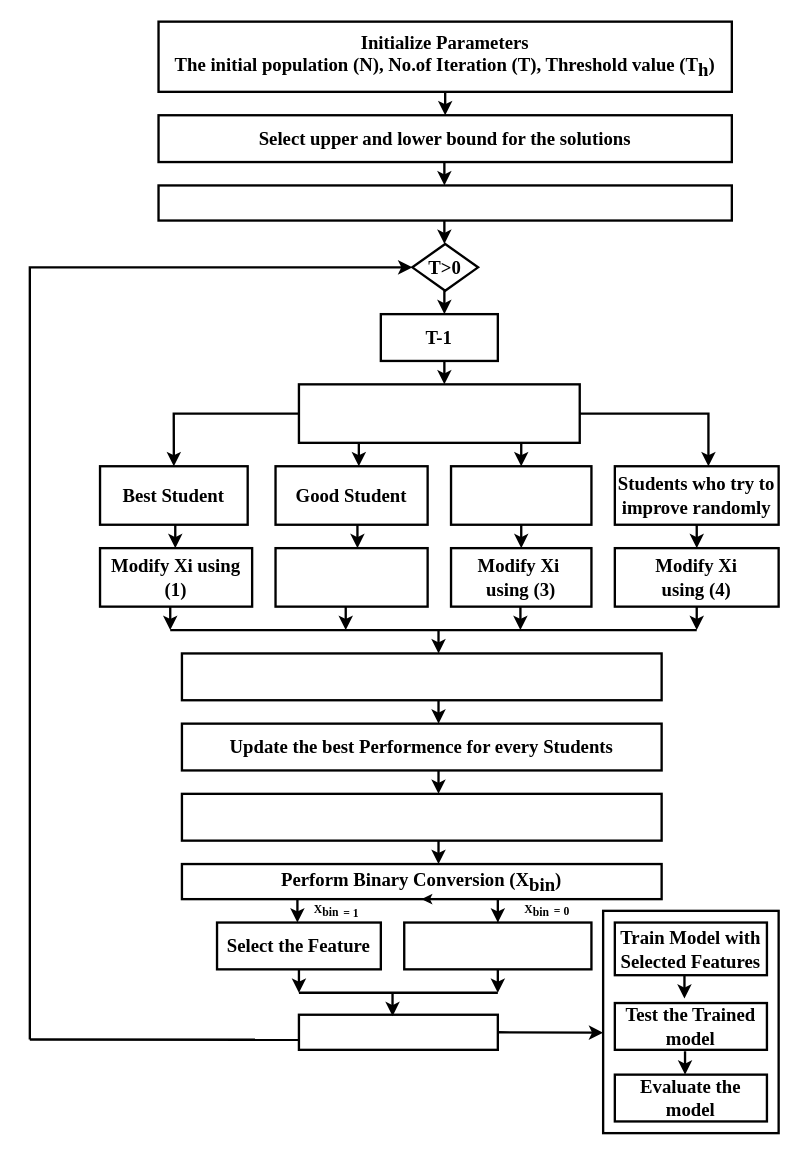
This 799x1163 diagram has some shape labels left out. The centre of each missing label's shape, as x and y in pixels:
Average Student: (x=520, y=494)
Check Catagory of the Students: (x=438, y=413)
Check the Error (E): (x=397, y=1031)
Compare the best fitness with the Threshold Value (T h ): (x=421, y=816)
Eliminate the Feature: (x=497, y=945)
Evalute the Performence using (Xi) Benchmark Function: (x=421, y=676)
Initialize the initial performence of the students randomly: (x=444, y=202)
Modify Xi using (2a or 2b): (x=351, y=576)
